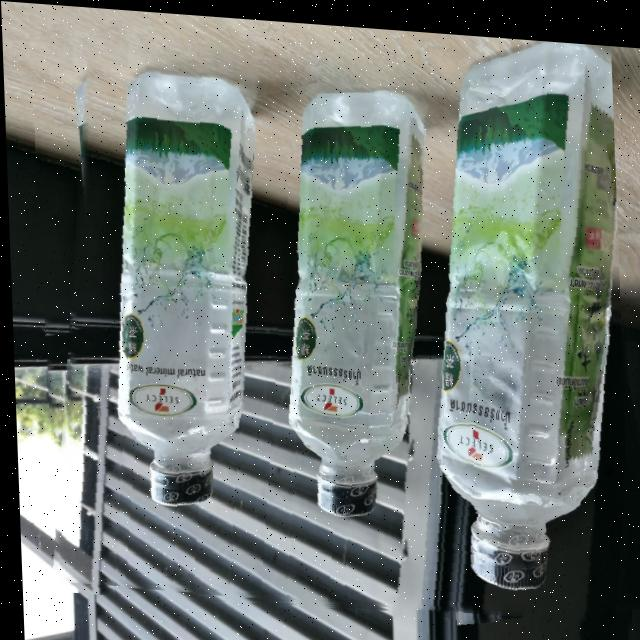plasticbottle: (30, 2, 627, 622), (368, 21, 640, 622), (191, 62, 432, 536)
plasticbottlecap: (412, 492, 558, 605), (264, 436, 383, 531), (111, 454, 210, 518)
